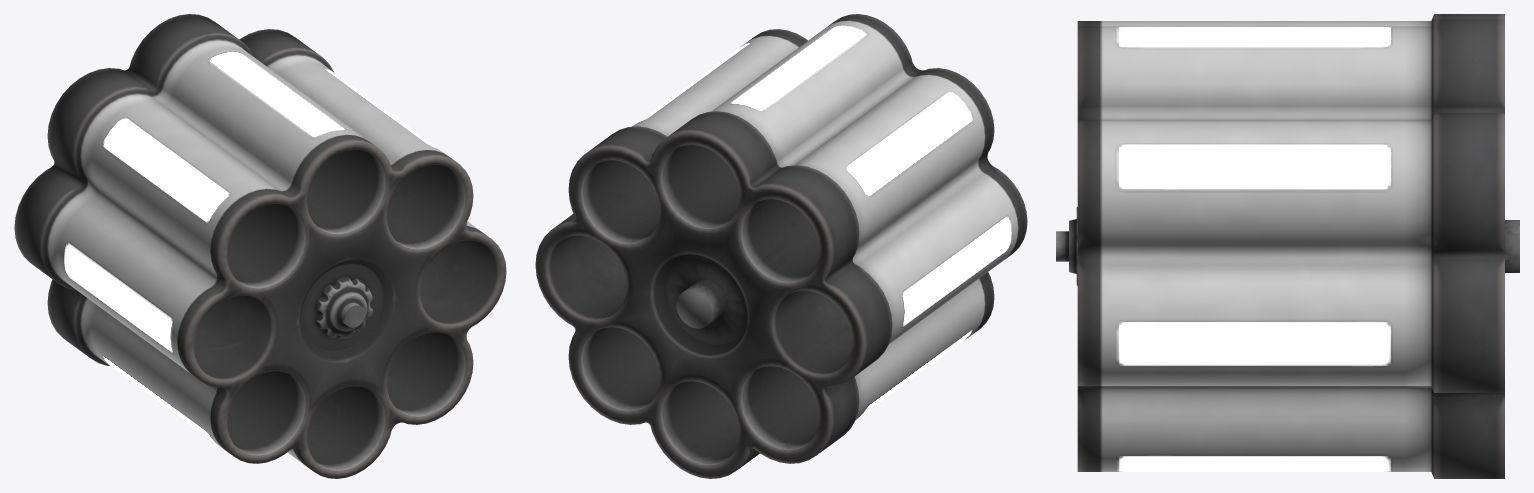
File: SciFiGrenadeLauncher01_4.FBX
3 views of the same model, side by side, from view 1: azimuth 30°, elevation 25°; view 2: azimuth 150°, elevation 25°; view 3: azimuth 270°, elevation 25° (orthographic). The views are drawn at different scales.
Visible parts, largest first — view 1: SciFiGrenadeLauncher01_4; view 2: SciFiGrenadeLauncher01_4; view 3: SciFiGrenadeLauncher01_4.
Part boxes in pixels (left/top/right/bottom): SciFiGrenadeLauncher01_4: left=14, top=14, right=506, bottom=478; SciFiGrenadeLauncher01_4: left=535, top=14, right=1027, bottom=478; SciFiGrenadeLauncher01_4: left=1056, top=14, right=1519, bottom=478.
Size of what is drawn, in the model's own units: 0.2215 by 0.2215 by 0.2117.
